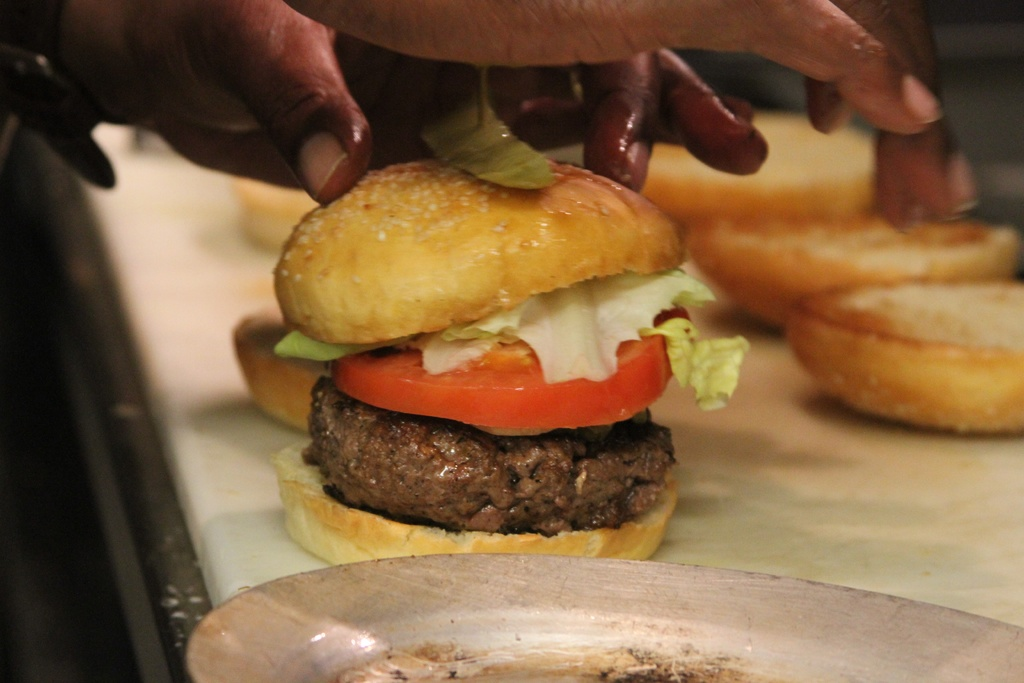Hamburger: (263, 106, 748, 568)
